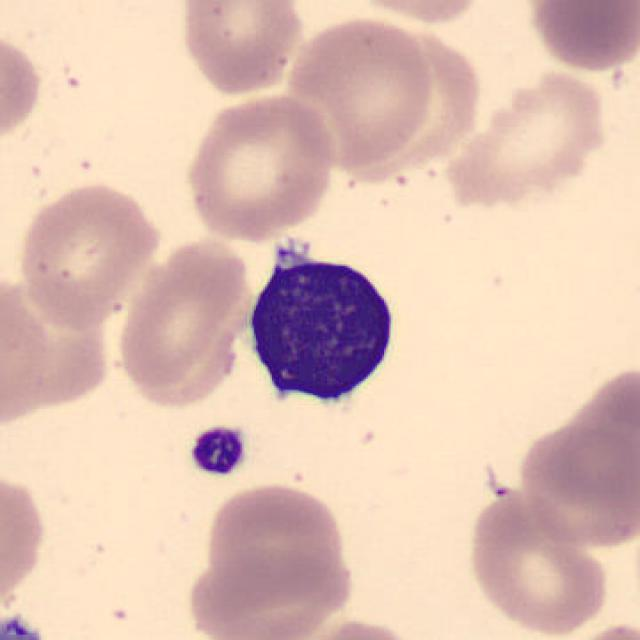Lymphocyte: (234, 229, 410, 420)
Platelets: (185, 422, 251, 479), (0, 613, 51, 640)
RBC: (439, 64, 615, 212), (283, 12, 439, 173), (112, 232, 256, 404), (182, 88, 340, 243), (462, 488, 614, 638), (14, 178, 164, 330), (201, 480, 350, 603), (185, 543, 357, 640), (514, 418, 638, 552), (176, 0, 308, 97), (517, 0, 640, 76), (0, 288, 65, 421), (0, 466, 50, 608), (0, 25, 46, 150), (343, 0, 493, 28), (288, 615, 425, 640), (556, 619, 640, 640)
